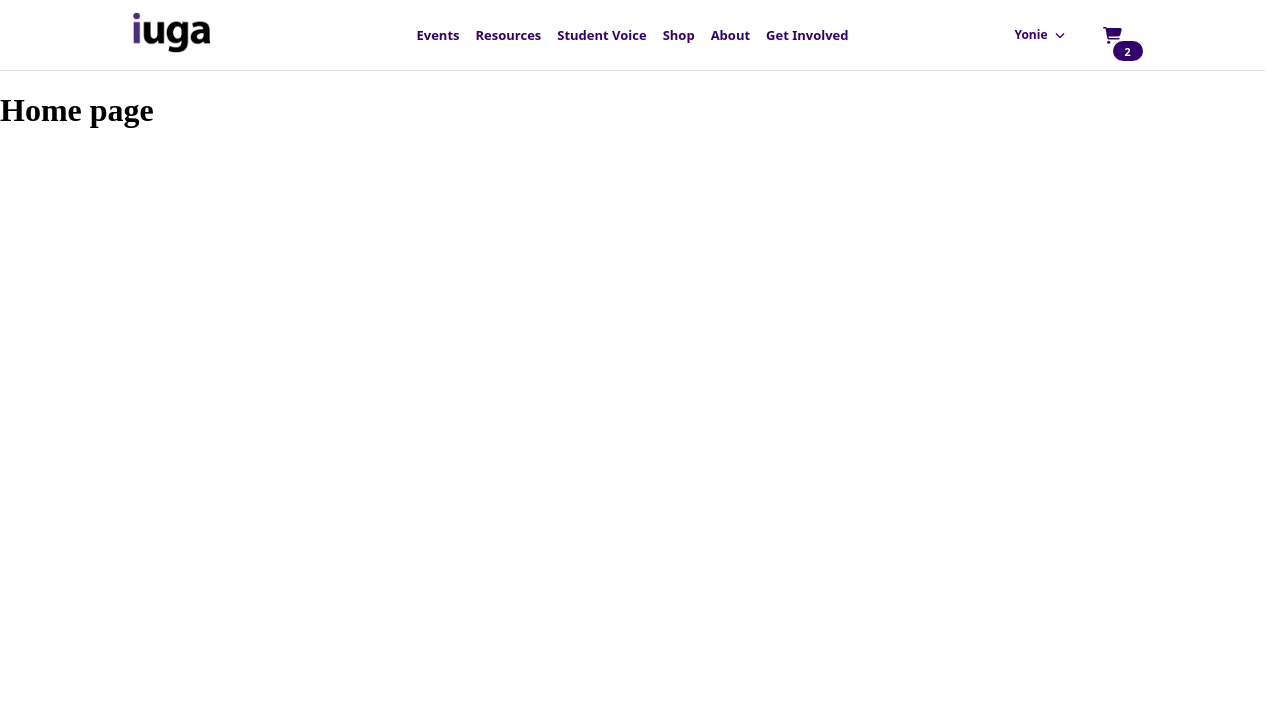
the navbar opens the real bag on / and keeps it usable after navigation
What coordinates should you click on to do the following:
click the button named "Cart, 2 items"
I would click on:
 (1112, 35)
Its box is x1=1092 y1=15 x2=1132 y2=55.
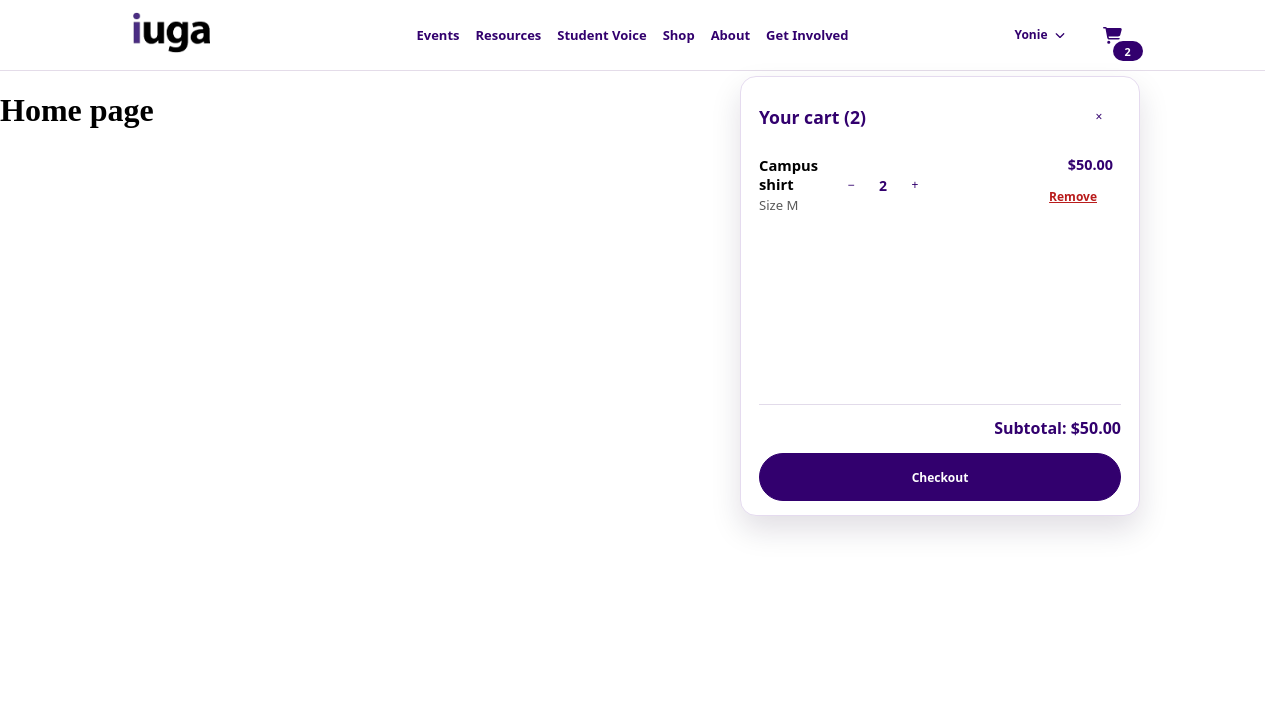
Now the text "Campus shirt" is shown, box x1=759 y1=156 x2=823 y2=194
Now the text "Subtotal: $50.00" is shown, box x1=759 y1=404 x2=1121 y2=439
What coordinates should you click on to do the following:
click the button named "Close cart"
I would click on:
 (1099, 117)
Its box is x1=1077 y1=95 x2=1121 y2=139.
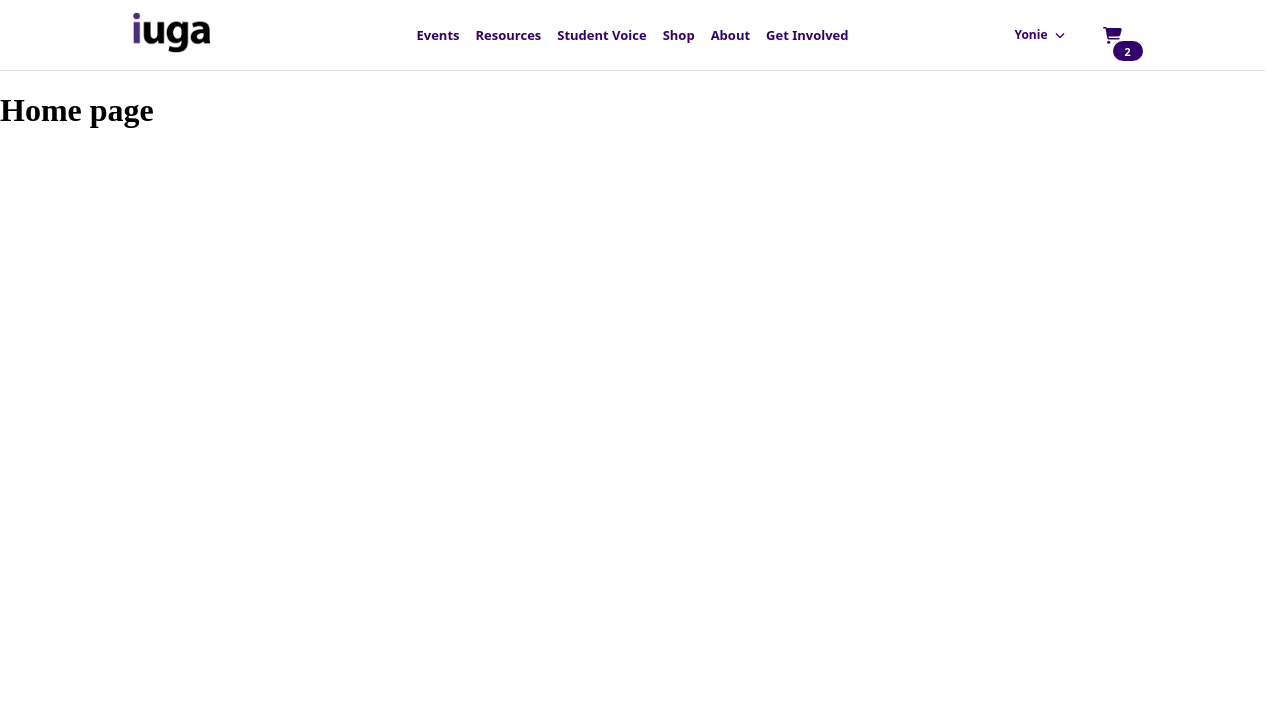
What coordinates should you click on to do the following:
click the link "About"
I would click on:
 (730, 34)
Its box is x1=711 y1=26 x2=750 y2=44.
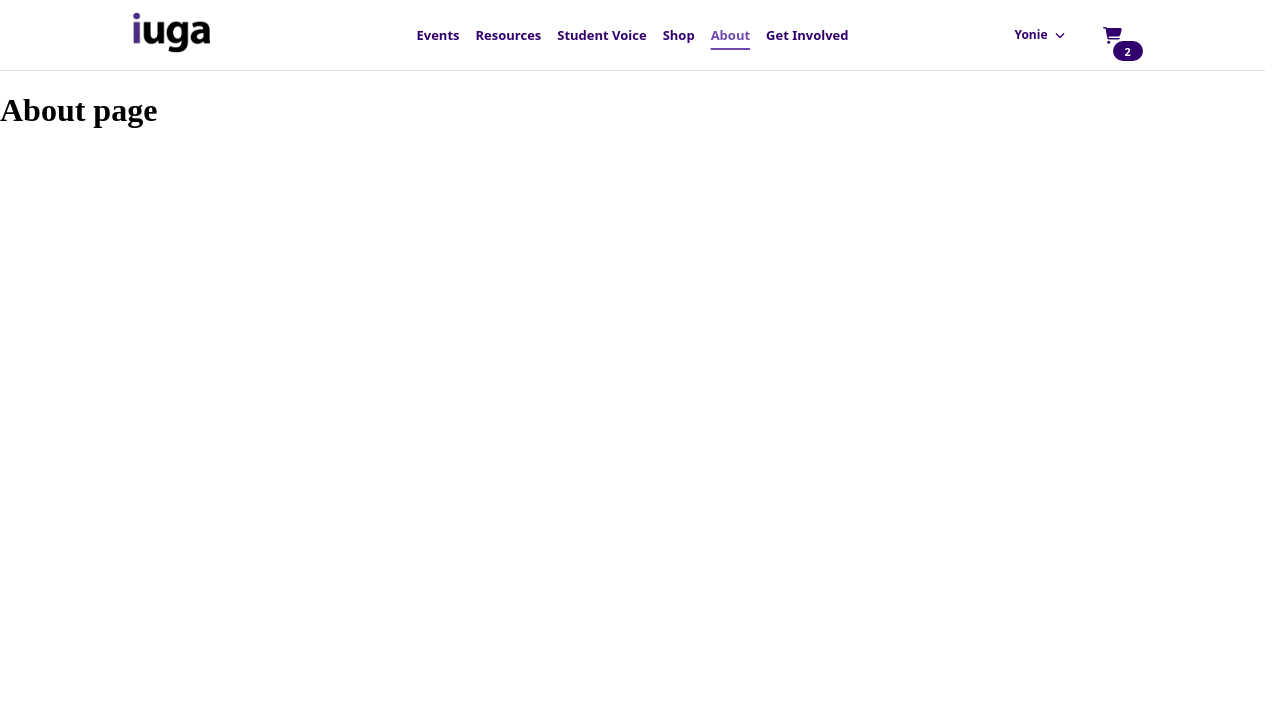
Now the heading "About page" is shown, box x1=0 y1=92 x2=157 y2=128
What coordinates should you click on to do the following:
click the button named "Cart, 2 items"
I would click on:
 (1112, 35)
Its box is x1=1092 y1=15 x2=1132 y2=55.
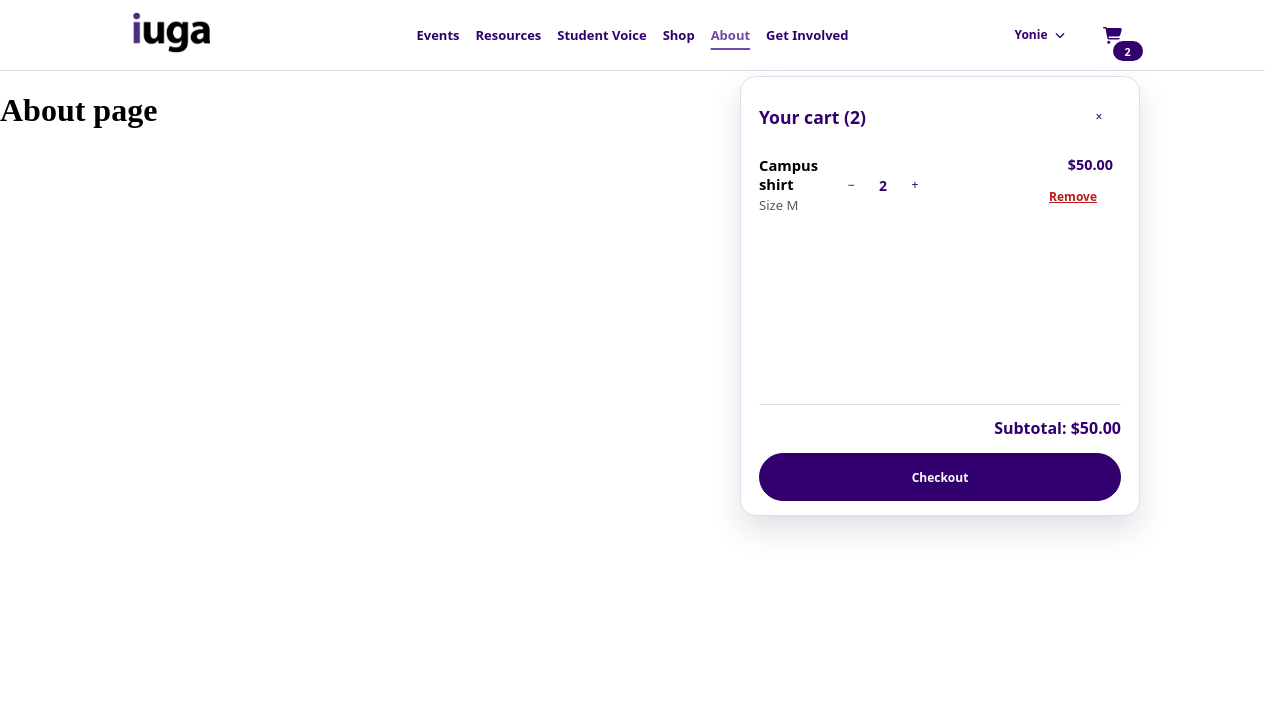
What coordinates should you click on to do the following:
click the button named "Increase Campus shirt M"
I would click on:
 (915, 185)
Its box is x1=895 y1=165 x2=935 y2=205.
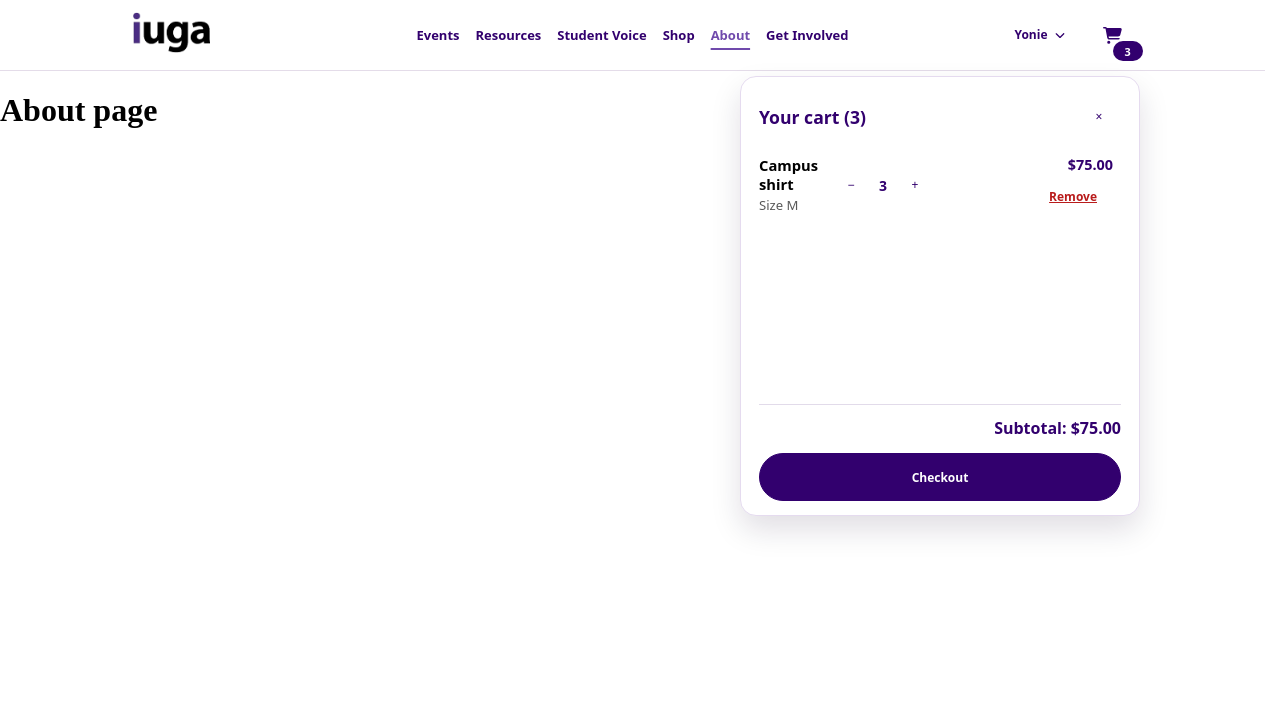
Now the button named "Cart, 3 items" is shown, box x1=1092 y1=15 x2=1132 y2=55
Now the text "Subtotal: $75.00" is shown, box x1=759 y1=404 x2=1121 y2=439
